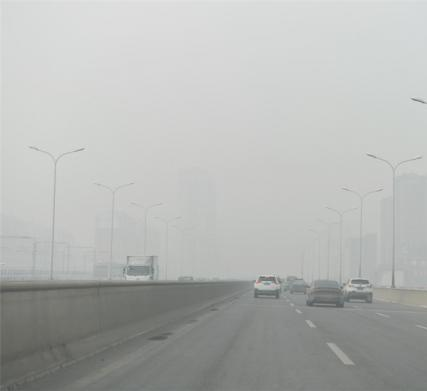bus: (122, 253, 159, 297)
car: (305, 277, 345, 309), (343, 278, 374, 303), (252, 274, 281, 298), (289, 277, 310, 296), (283, 275, 301, 292)
